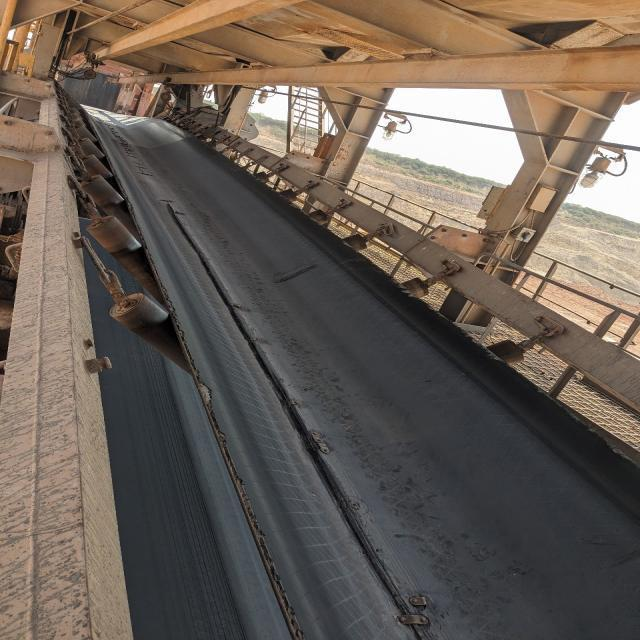Tear: (161, 201, 437, 640)
